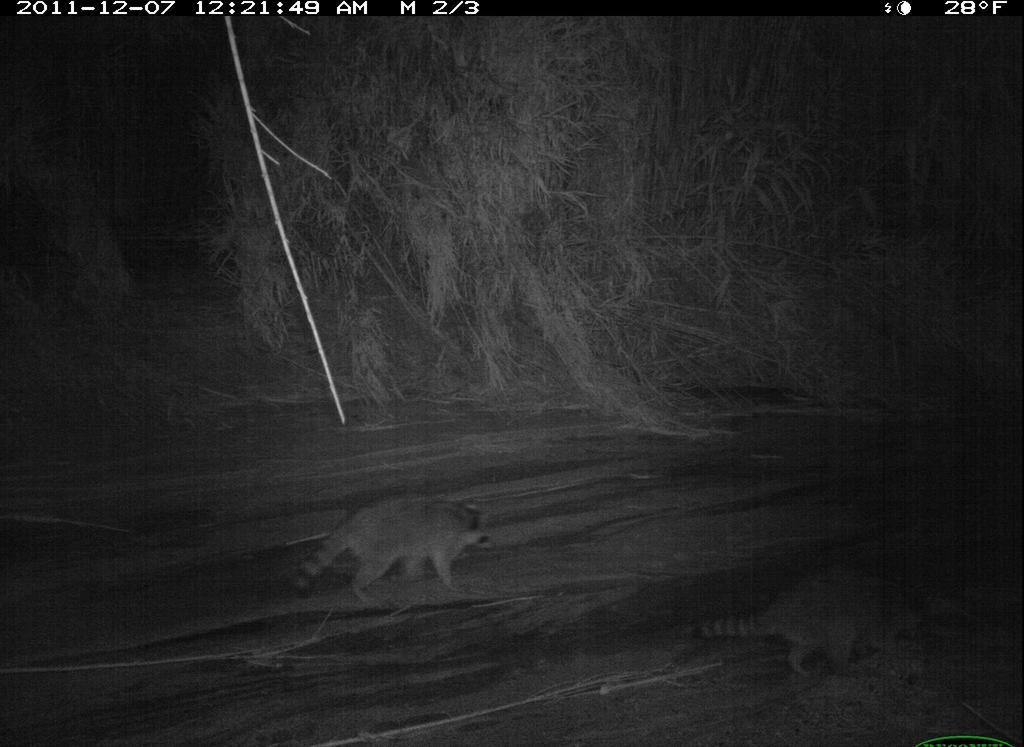raccoon: (692, 560, 946, 694), (286, 483, 500, 611)
